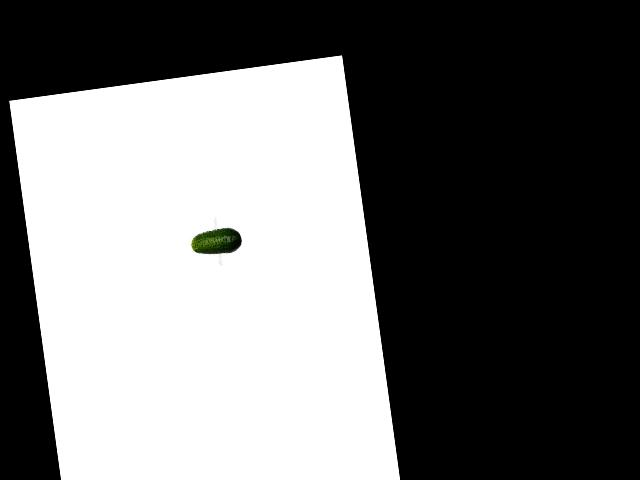cucumber: (189, 225, 243, 257)
